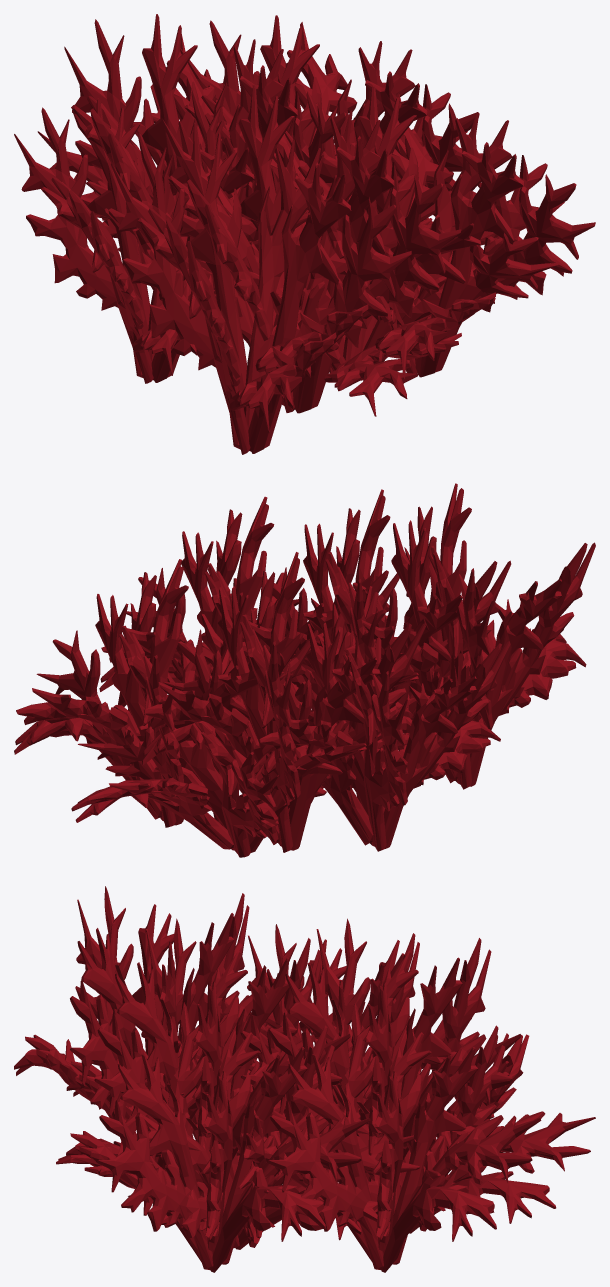
The model's file is red_coral2.dae.
The picture shows the model from 3 angles, top to bottom: view 1: azimuth 30°, elevation 25°; view 2: azimuth 150°, elevation 25°; view 3: azimuth 270°, elevation 25°; orthographic projection. The views are drawn at different scales.
Parts seen in each view (by area): view 1: _0010_Coral_v1_L3_v4_000_001, _0010_Coral_v1_L3_v4_002_001, _0010_Coral_v1_L3_v4_004_001, _0010_Coral_v1_L3_v4_000, _0010_Coral_v1_L3_v4_002, _0010_Coral_v1_L3_v4_004, _0010_Coral_v1_L3_v4_001_001, _0010_Coral_v1_L3_v4_001; view 2: _0010_Coral_v1_L3_v4_000, _0010_Coral_v1_L3_v4_002, _0010_Coral_v1_L3_v4_000_001, _0010_Coral_v1_L3_v4_004, _0010_Coral_v1_L3_v4_001, _0010_Coral_v1_L3_v4_002_001, _0010_Coral_v1_L3_v4_004_001, _0010_Coral_v1_L3_v4_001_001; view 3: _0010_Coral_v1_L3_v4_004, _0010_Coral_v1_L3_v4_004_001, _0010_Coral_v1_L3_v4_002, _0010_Coral_v1_L3_v4_002_001, _0010_Coral_v1_L3_v4_000_001, _0010_Coral_v1_L3_v4_001, _0010_Coral_v1_L3_v4_001_001, _0010_Coral_v1_L3_v4_000.
Part boxes in pixels (x1=…): _0010_Coral_v1_L3_v4_000_001: x1=111, y1=123, x2=411, y2=454; _0010_Coral_v1_L3_v4_002_001: x1=161, y1=85, x2=461, y2=413; _0010_Coral_v1_L3_v4_004_001: x1=284, y1=86, x2=595, y2=379; _0010_Coral_v1_L3_v4_000: x1=14, y1=98, x2=309, y2=383; _0010_Coral_v1_L3_v4_002: x1=64, y1=14, x2=348, y2=301; _0010_Coral_v1_L3_v4_004: x1=180, y1=15, x2=481, y2=216; _0010_Coral_v1_L3_v4_001_001: x1=172, y1=186, x2=558, y2=416; _0010_Coral_v1_L3_v4_001: x1=37, y1=84, x2=401, y2=270; _0010_Coral_v1_L3_v4_000: x1=253, y1=586, x2=510, y2=851; _0010_Coral_v1_L3_v4_002: x1=142, y1=552, x2=425, y2=852; _0010_Coral_v1_L3_v4_000_001: x1=344, y1=483, x2=595, y2=789; _0010_Coral_v1_L3_v4_004: x1=14, y1=559, x2=318, y2=827; _0010_Coral_v1_L3_v4_001: x1=71, y1=648, x2=410, y2=857; _0010_Coral_v1_L3_v4_002_001: x1=233, y1=489, x2=511, y2=763; _0010_Coral_v1_L3_v4_004_001: x1=99, y1=496, x2=399, y2=691; _0010_Coral_v1_L3_v4_001_001: x1=139, y1=572, x2=447, y2=729; _0010_Coral_v1_L3_v4_004: x1=236, y1=1002, x2=541, y2=1272; _0010_Coral_v1_L3_v4_004_001: x1=66, y1=1002, x2=370, y2=1272; _0010_Coral_v1_L3_v4_002: x1=248, y1=918, x2=521, y2=1213; _0010_Coral_v1_L3_v4_002_001: x1=66, y1=918, x2=350, y2=1159; _0010_Coral_v1_L3_v4_000_001: x1=14, y1=886, x2=301, y2=1169; _0010_Coral_v1_L3_v4_001: x1=266, y1=1024, x2=595, y2=1233; _0010_Coral_v1_L3_v4_001_001: x1=56, y1=1040, x2=420, y2=1249; _0010_Coral_v1_L3_v4_000: x1=195, y1=924, x2=471, y2=1124.
Bounding box in the file's own units: 136 × 168 × 85.65.
